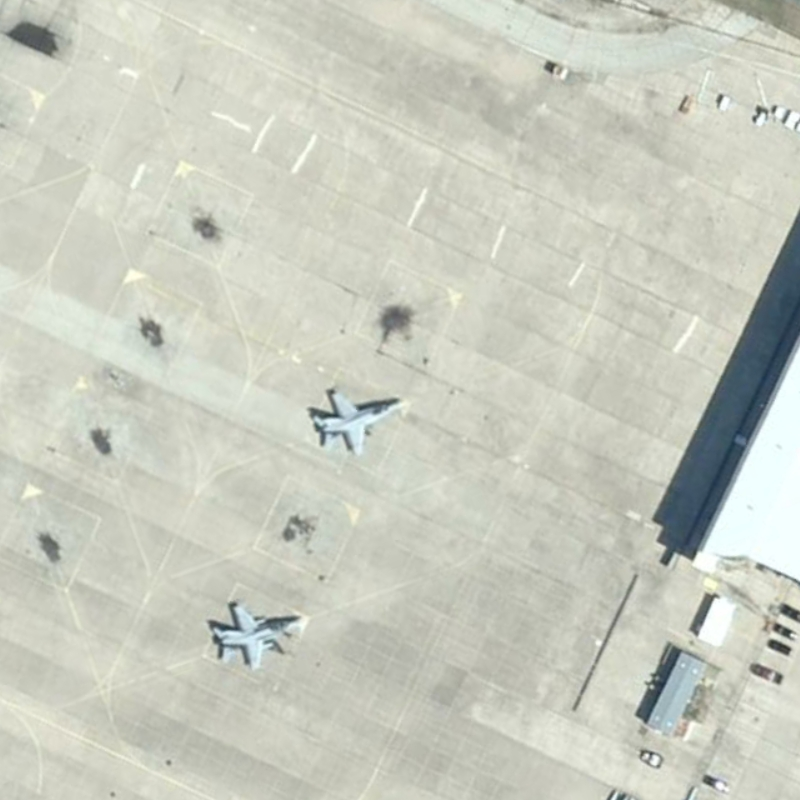A16: (199, 589, 317, 672), (303, 382, 414, 463)
